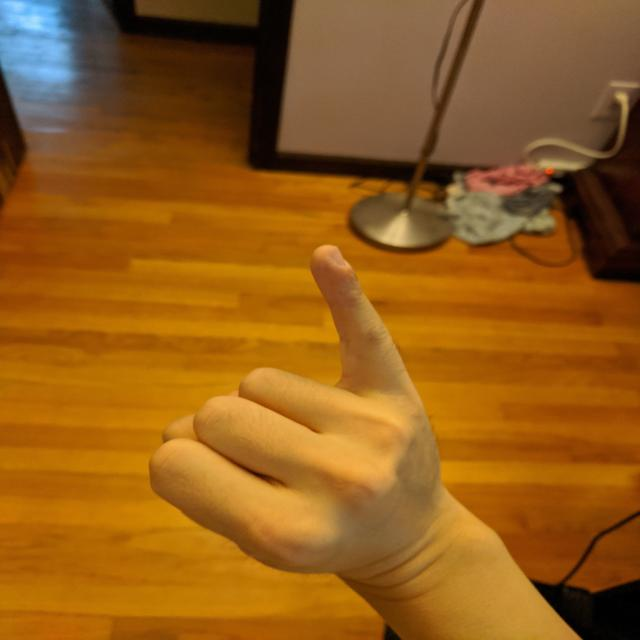I: (140, 239, 453, 583)
